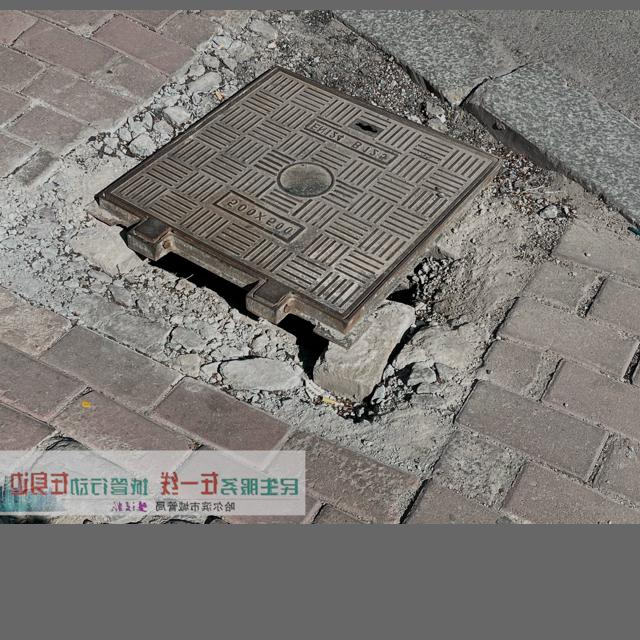circle: (4, 62, 576, 420)
